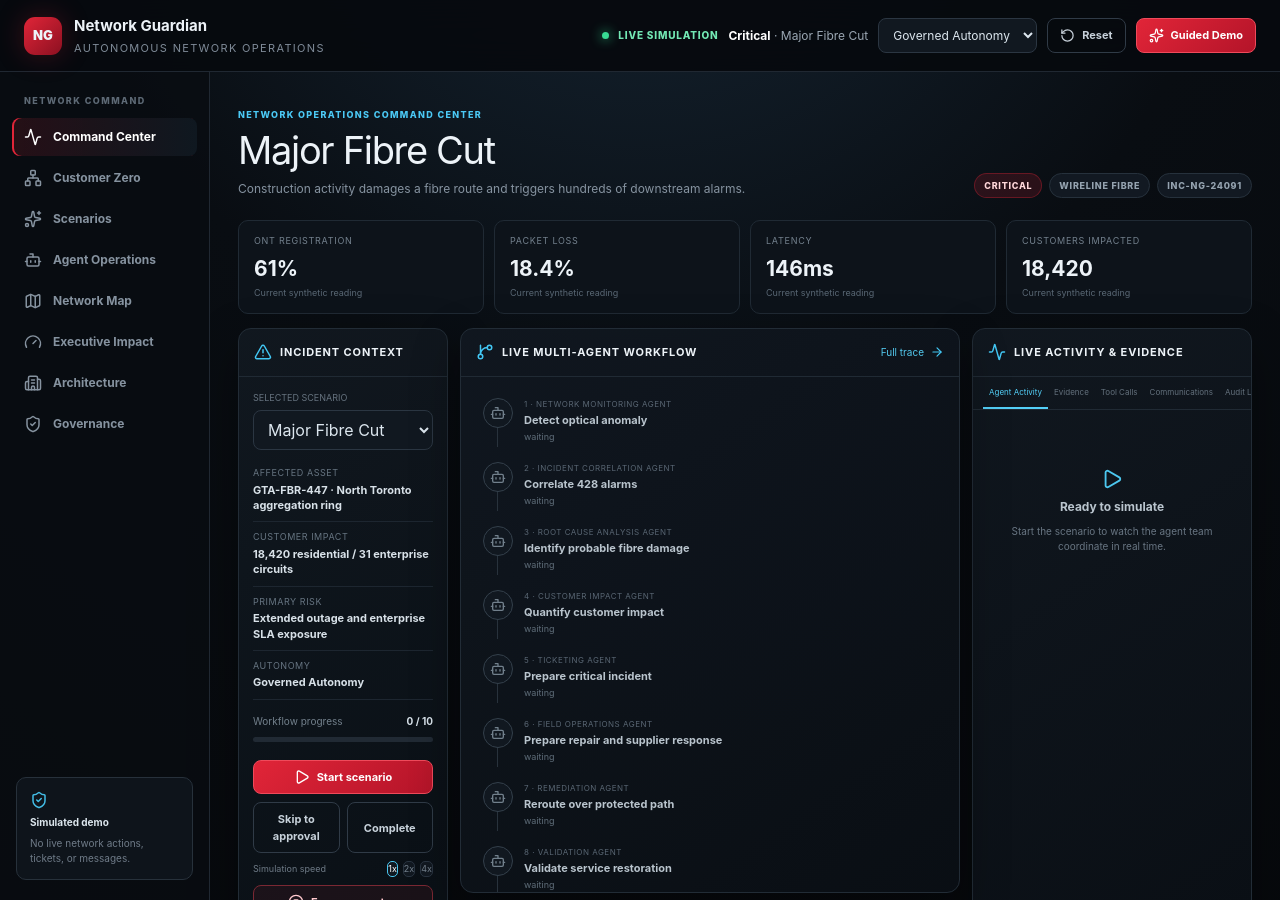
Scenario: Network Guardian › completion updates outcome metrics
The width and height of the screenshot is (1280, 900).
What coordinates should you click on to do the following:
click the button "Complete"
I would click on:
 (390, 828)
Its box is [346,802,433,853].
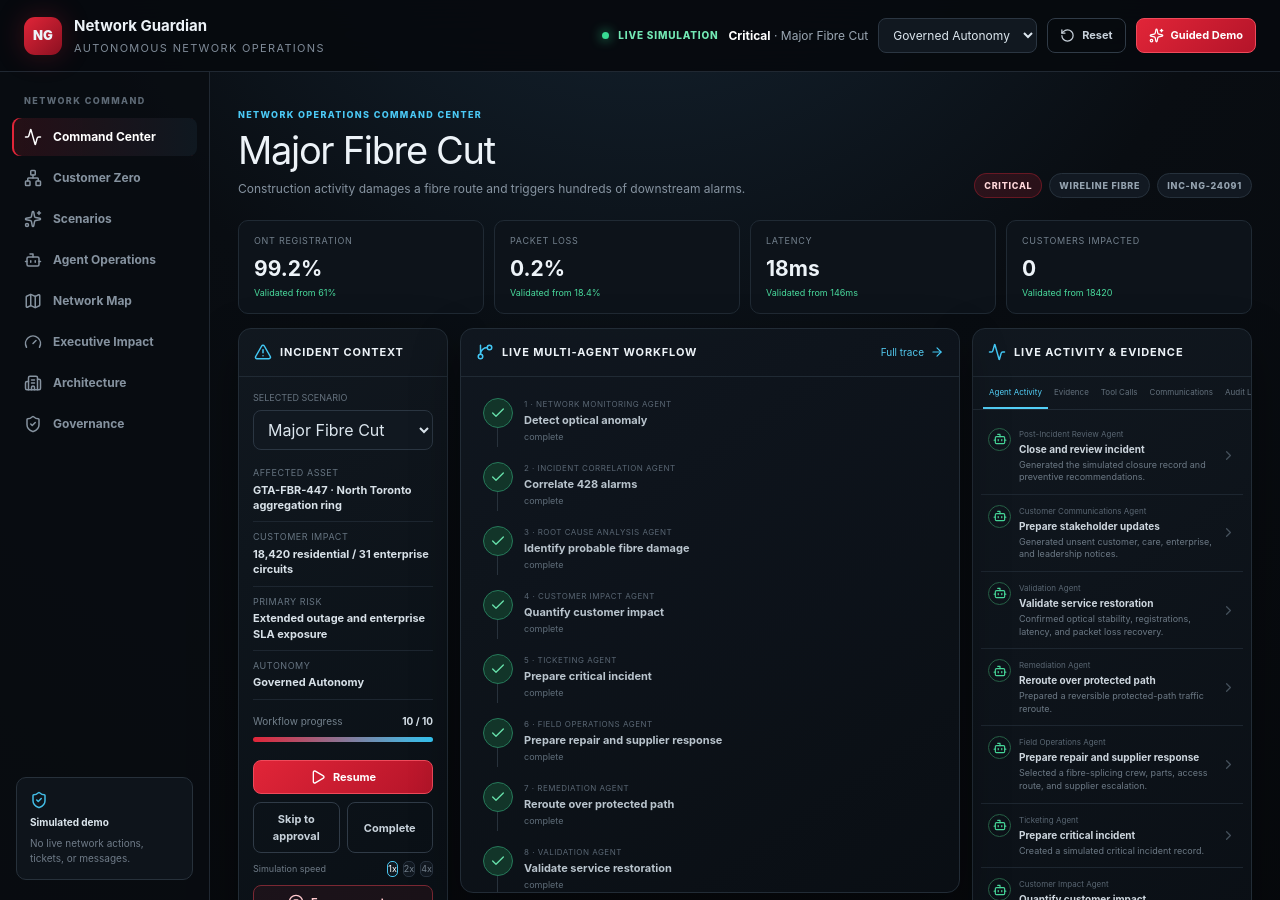
Expected: the text "99.2%" is shown, [254,256,322,281]
Expected: the text "Validated from 61%" is shown, [254,287,336,298]
